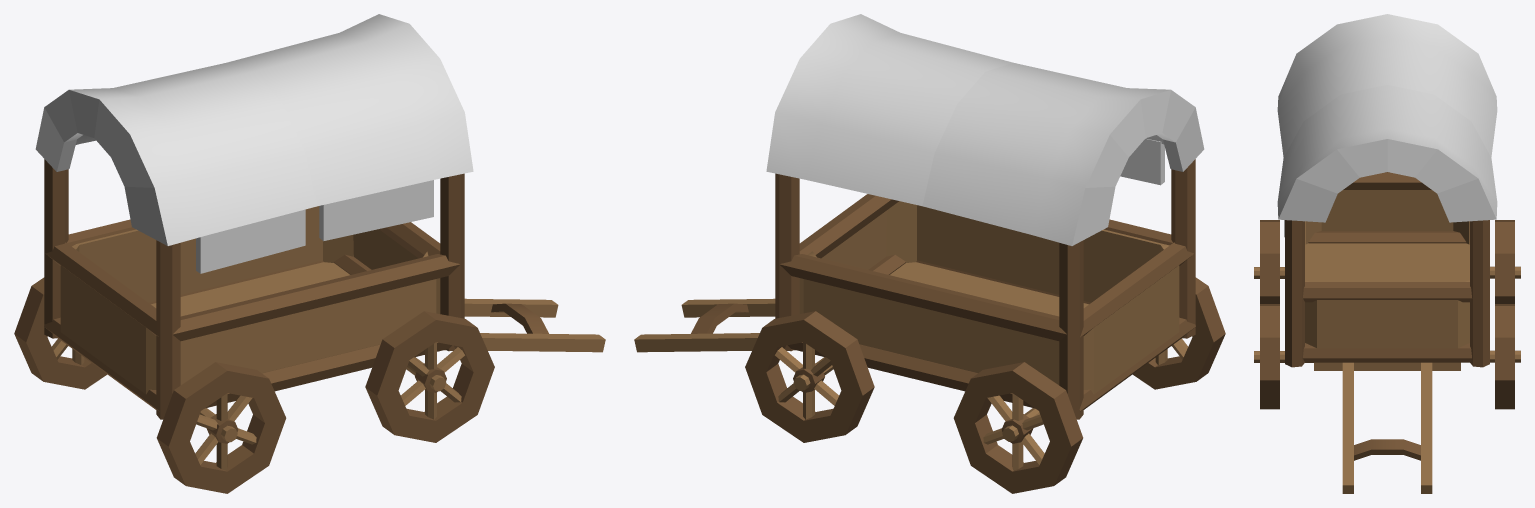
The model's file is SM_roulotte.fbx.
The picture shows the model from 3 angles, left to right: view 1: azimuth 30°, elevation 25°; view 2: azimuth 150°, elevation 25°; view 3: azimuth 270°, elevation 25°; orthographic projection. The views are drawn at different scales.
Parts seen in each view (by area): view 1: SM_roulotte; view 2: SM_roulotte; view 3: SM_roulotte.
Part boxes in pixels (bbox=[...]): SM_roulotte: bbox=[14, 14, 605, 493]; SM_roulotte: bbox=[634, 14, 1225, 493]; SM_roulotte: bbox=[1254, 14, 1520, 493].
Size of the model in its own units: 438 by 301 by 252.
